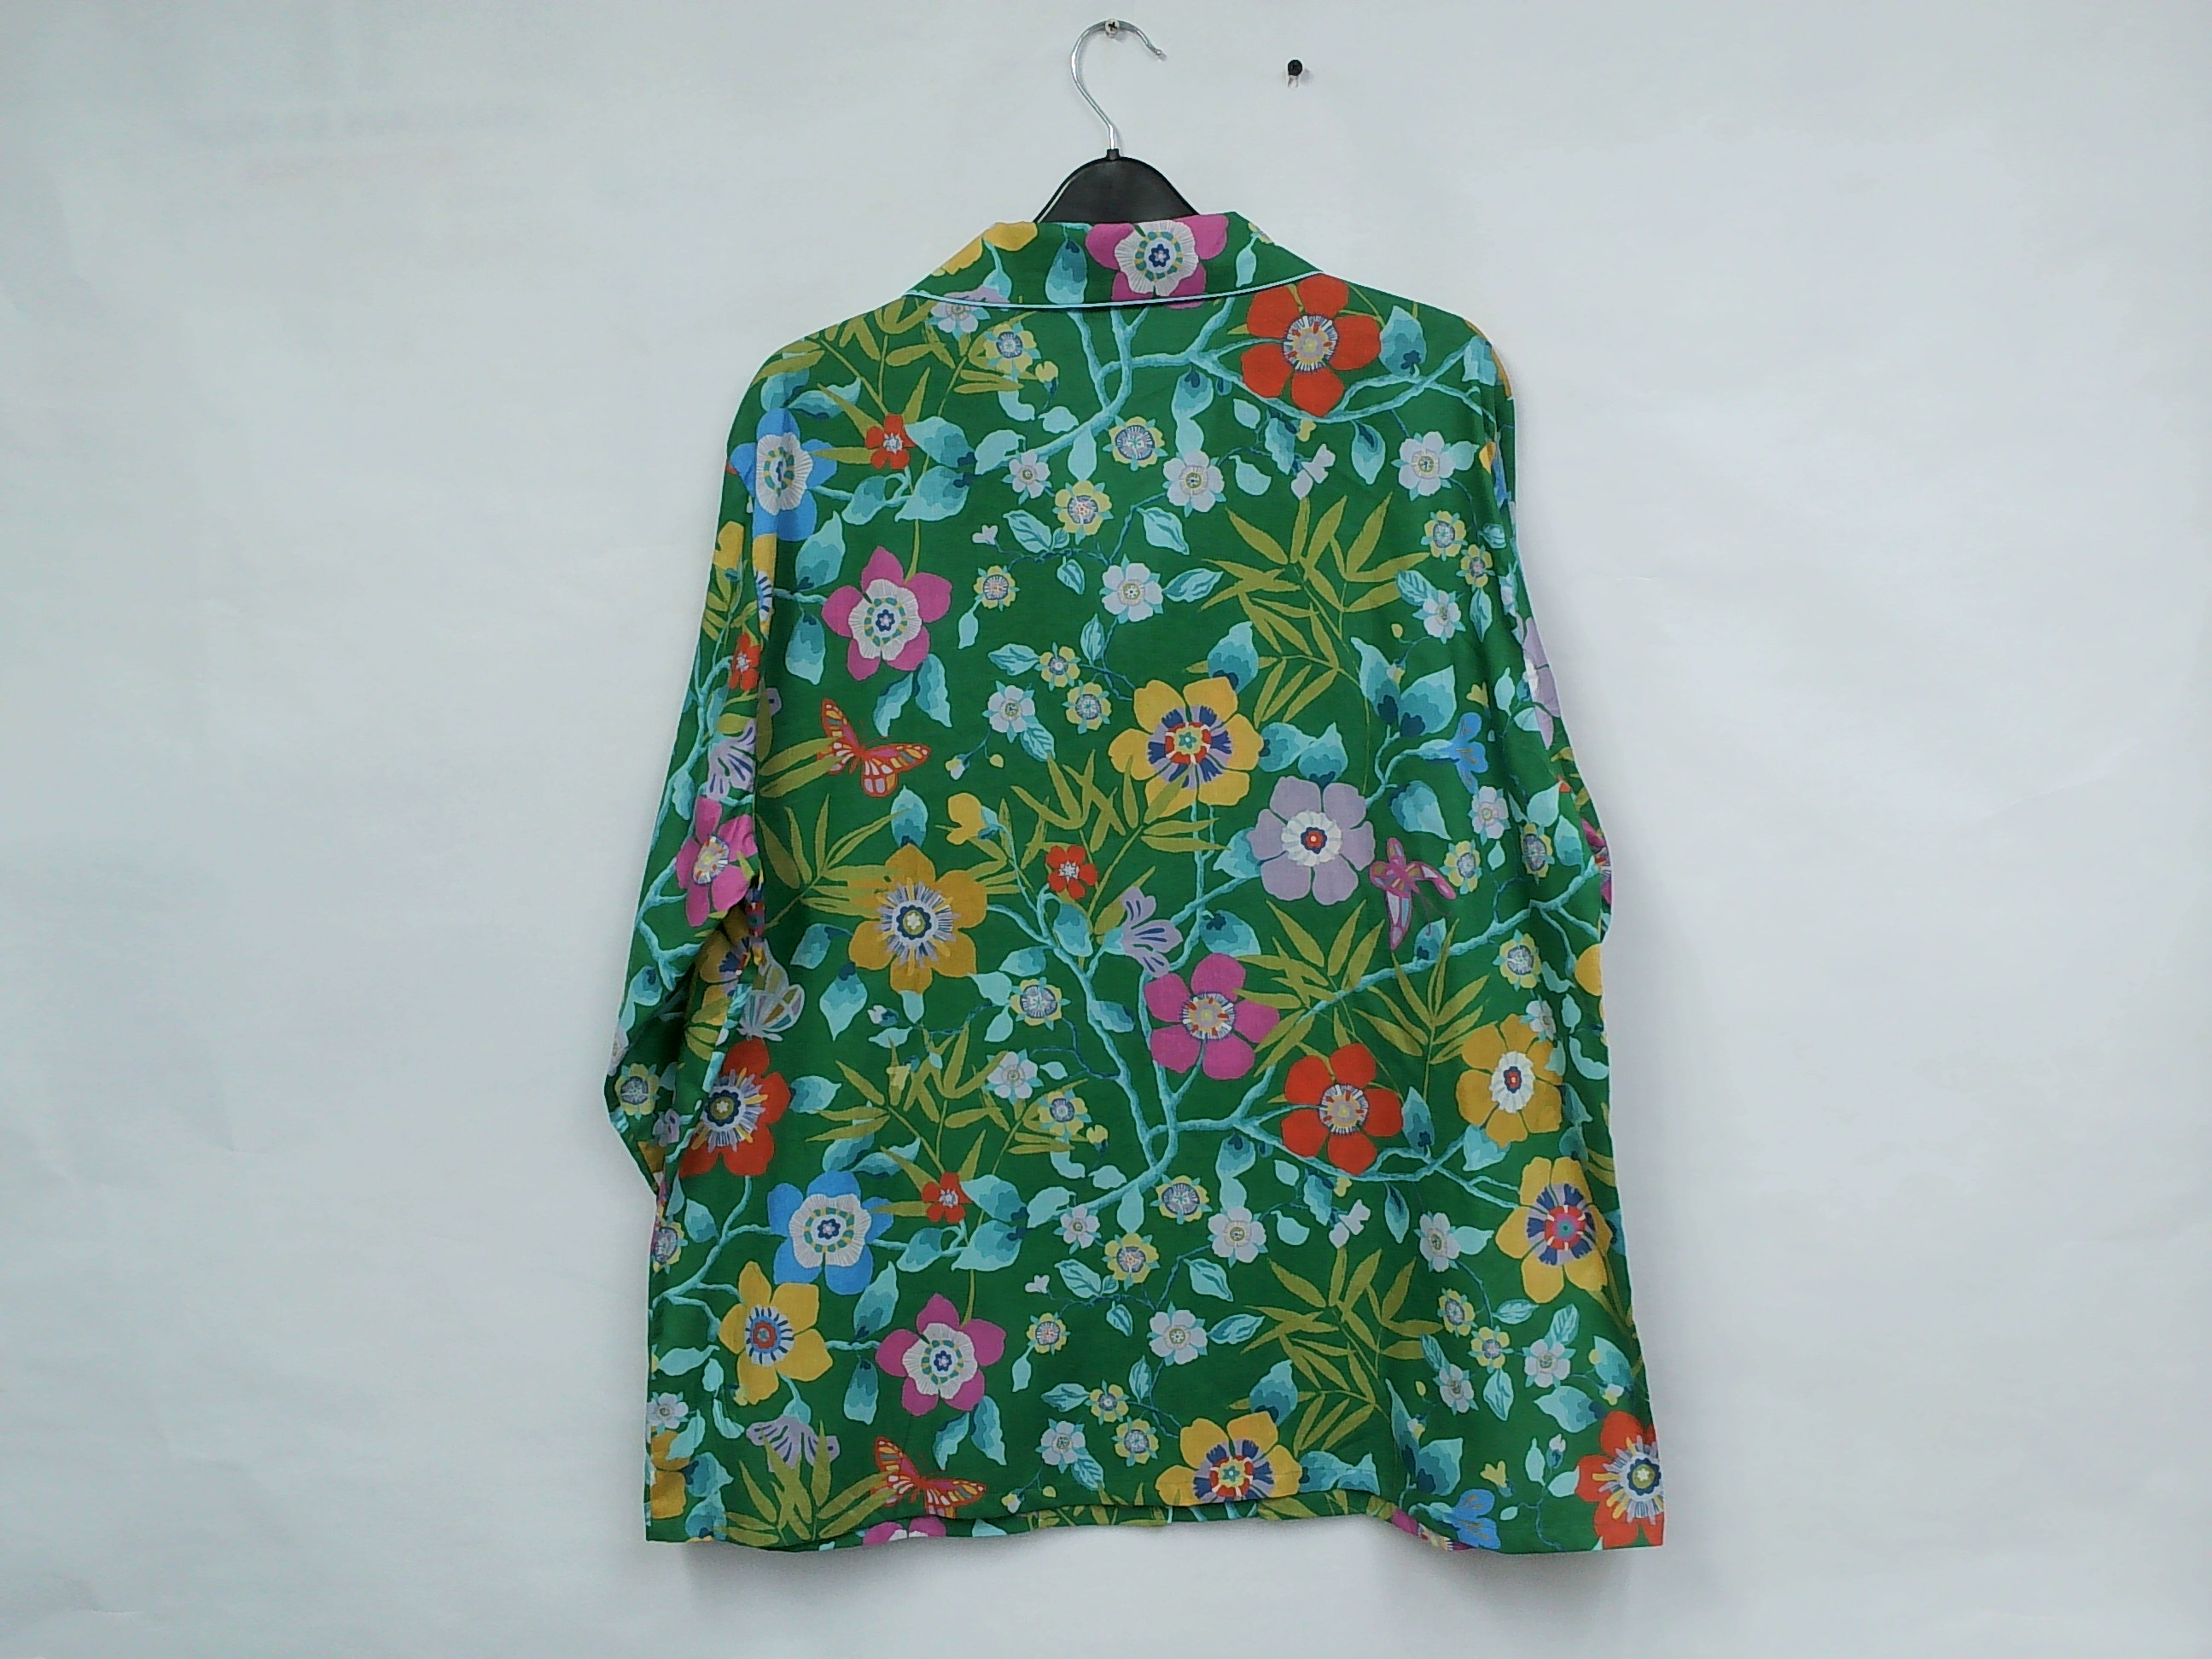wrinkles: (1467, 633, 1616, 770)
